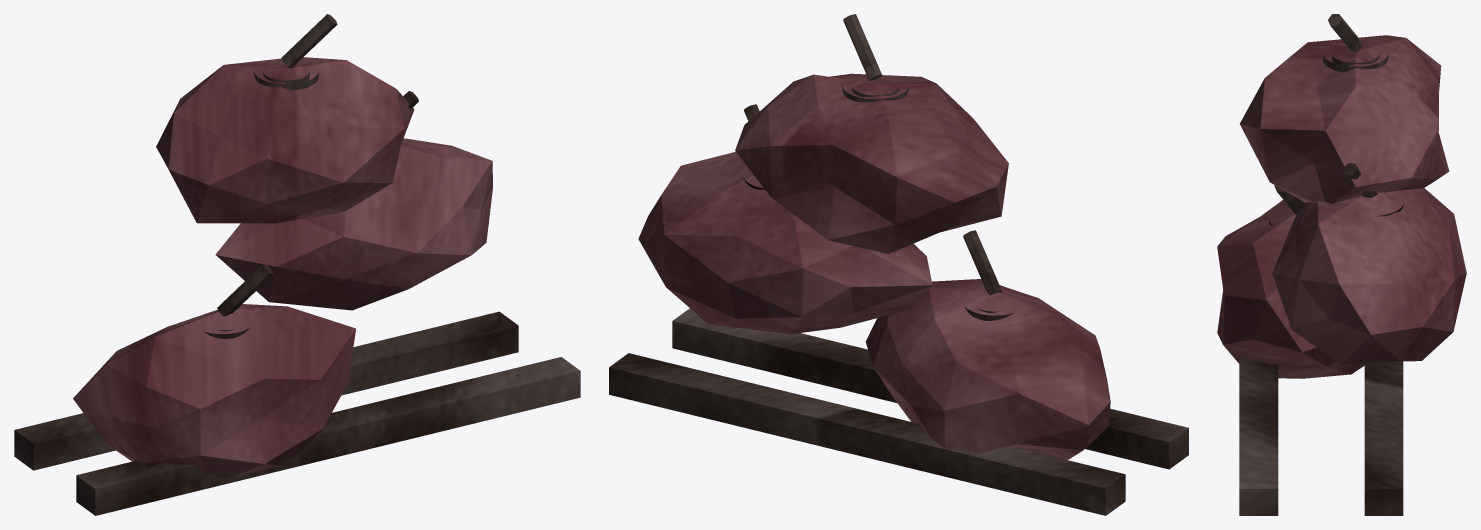
Rendered from 0807_sack_stack_07.glb.
3 renders of one model, left to right at view 1: azimuth 30°, elevation 25°; view 2: azimuth 150°, elevation 25°; view 3: azimuth 270°, elevation 25°, orthographic. The views are drawn at different scales.
Parts seen in each view (by area): view 1: cloth, wood_dark; view 2: cloth, wood_dark; view 3: cloth, wood_dark.
Boxes of the visible parts, <box> form: cloth: <box>73,57,492,479</box>; wood_dark: <box>14,14,580,515</box>; cloth: <box>638,73,1110,459</box>; wood_dark: <box>609,14,1188,515</box>; cloth: <box>1217,35,1466,378</box>; wood_dark: <box>1239,14,1403,515</box>.
Size of the model in its own units: 1.9 by 1.53 by 0.8379.
Materials: 2 (2 with a texture image).
